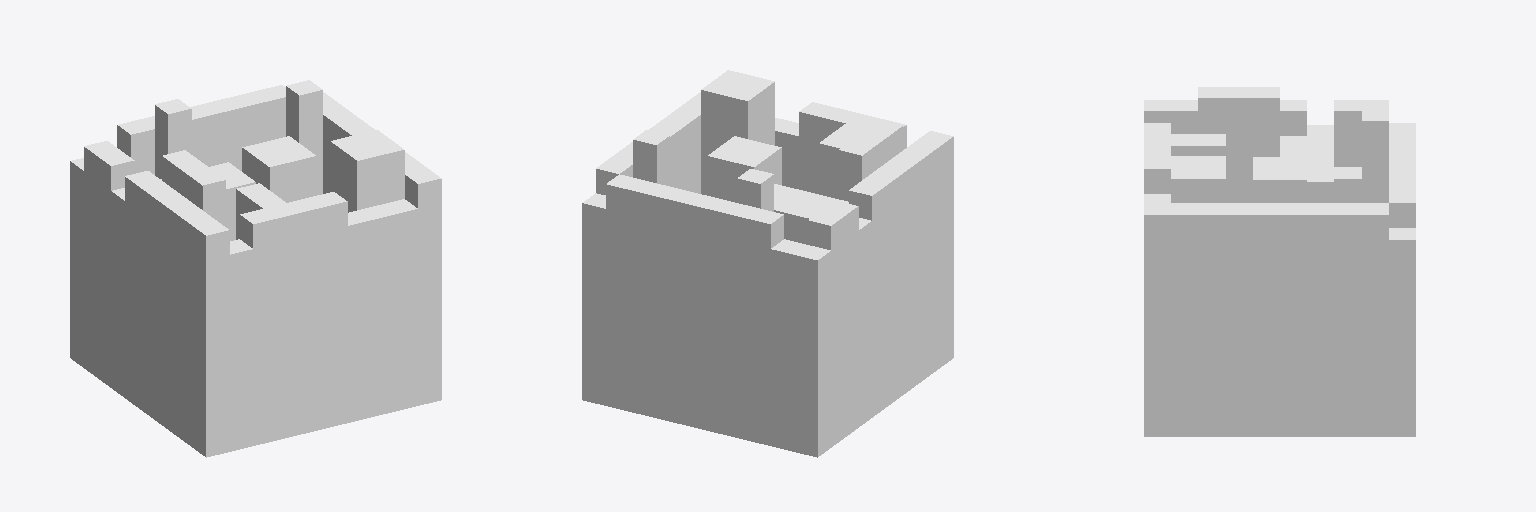
Rendered from ld43-possessions.obj.
3 renders of one model, left to right at view 1: azimuth 30°, elevation 25°; view 2: azimuth 150°, elevation 25°; view 3: azimuth 270°, elevation 25°, orthographic.
Visible parts, largest first — view 1: ld43-possessions; view 2: ld43-possessions; view 3: ld43-possessions.
Part boxes in pixels (x1,y1,x2,y2): ld43-possessions: (70,80,441,457); ld43-possessions: (582,70,953,457); ld43-possessions: (1144,87,1415,436).
Bounding box in the file's own units: 10 × 10 × 10.